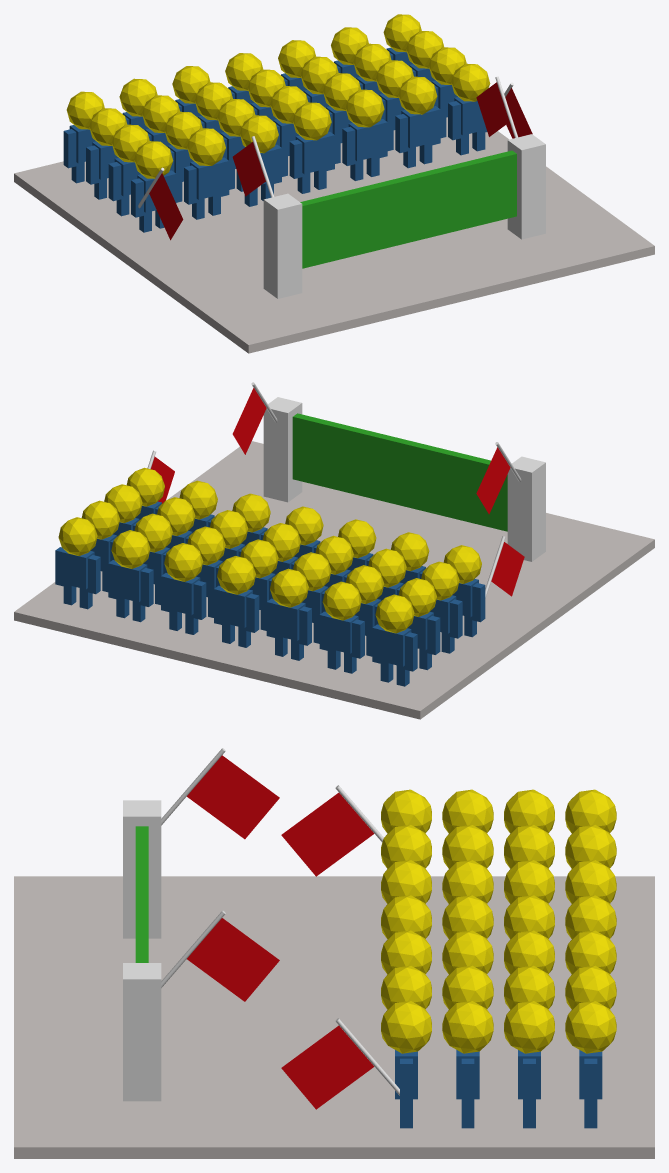
Rendered from victory.glb.
The picture shows the model from 3 angles, top to bottom: view 1: azimuth 30°, elevation 25°; view 2: azimuth 150°, elevation 25°; view 3: azimuth 270°, elevation 25°; orthographic projection. The views are drawn at different scales.
Parts seen in each view (by area): view 1: Worker, Base, Cube, Flag.001, Flag.002, Flag, Flag.003; view 2: Worker, Base, Cube, Flag, Flag.001, Flag.002, Flag.003; view 3: Base, Worker, Cube, Flag.003, Flag.001, Flag.002, Flag.
Part boxes in pixels (bbox=[...]): Worker: bbox=[63, 14, 490, 232]; Base: bbox=[14, 117, 654, 353]; Cube: bbox=[263, 134, 545, 298]; Flag.001: bbox=[232, 136, 274, 197]; Flag.002: bbox=[476, 76, 517, 137]; Flag: bbox=[138, 167, 183, 240]; Flag.003: bbox=[504, 82, 532, 138]; Worker: bbox=[55, 467, 485, 686]; Base: bbox=[14, 441, 654, 719]; Cube: bbox=[263, 397, 545, 561]; Flag: bbox=[485, 536, 524, 598]; Flag.001: bbox=[476, 442, 521, 514]; Flag.002: bbox=[232, 382, 277, 454]; Flag.003: bbox=[147, 450, 174, 503]; Base: bbox=[14, 876, 654, 1158]; Worker: bbox=[381, 789, 616, 1128]; Cube: bbox=[123, 800, 161, 1101]; Flag.003: bbox=[281, 1018, 399, 1109]; Flag.001: bbox=[161, 748, 279, 839]; Flag.002: bbox=[161, 910, 279, 1001]; Flag: bbox=[281, 785, 383, 876].
Bounding box in the file's own units: 10 × 3.34 × 10.
